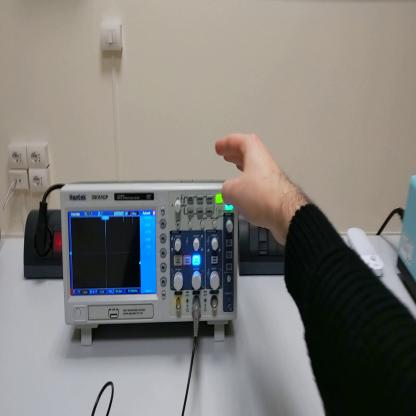hand: (215, 132, 288, 237)
oscilloscope: (61, 178, 241, 347)
socket: (22, 206, 65, 280)
welder station: (399, 174, 415, 304)
